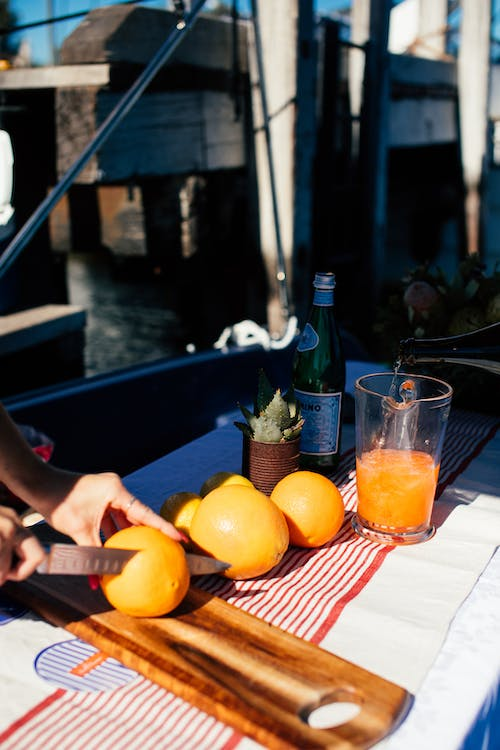knife: (33, 538, 232, 578)
